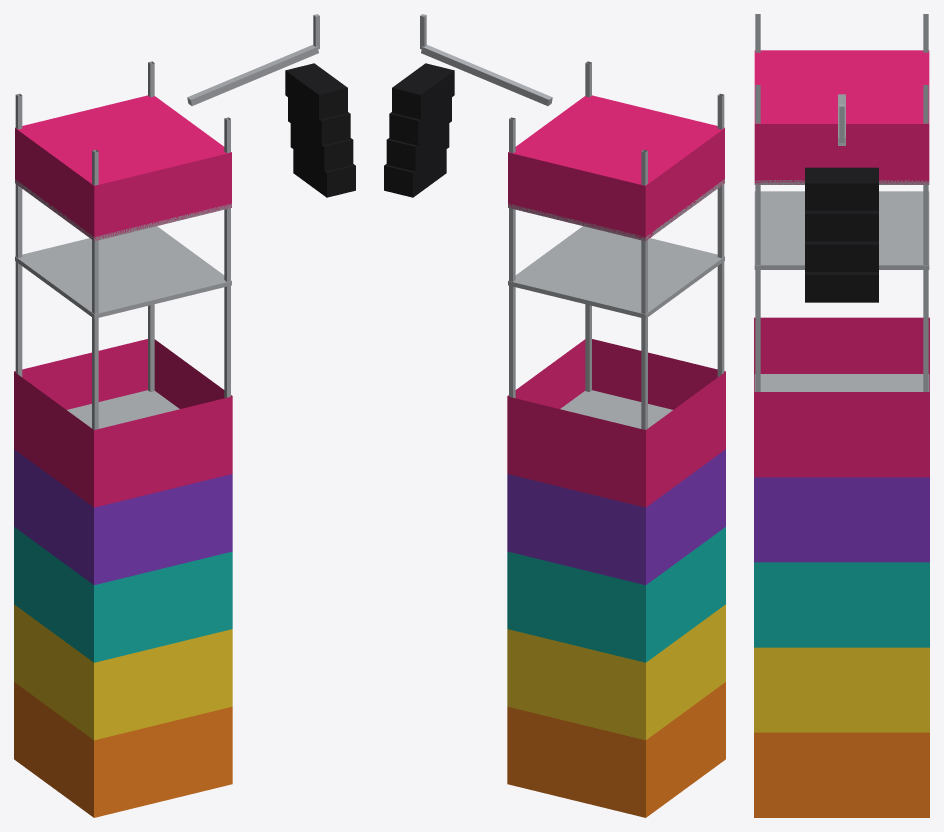
File: fest_delay_tower.glb
3 renders of one model, left to right at view 1: azimuth 30°, elevation 25°; view 2: azimuth 150°, elevation 25°; view 3: azimuth 270°, elevation 25°, orthographic. The views are drawn at different scales.
Visible parts, largest first — view 1: kp_delay_tower; view 2: kp_delay_tower; view 3: kp_delay_tower.
Part boxes in pixels (<box>): kp_delay_tower: <box>14,14,355,817</box>; kp_delay_tower: <box>384,14,725,817</box>; kp_delay_tower: <box>754,14,929,817</box>.
Bounding box in the file's own units: 5.38 × 12.8 × 2.62.
1 material, 1 textured.
